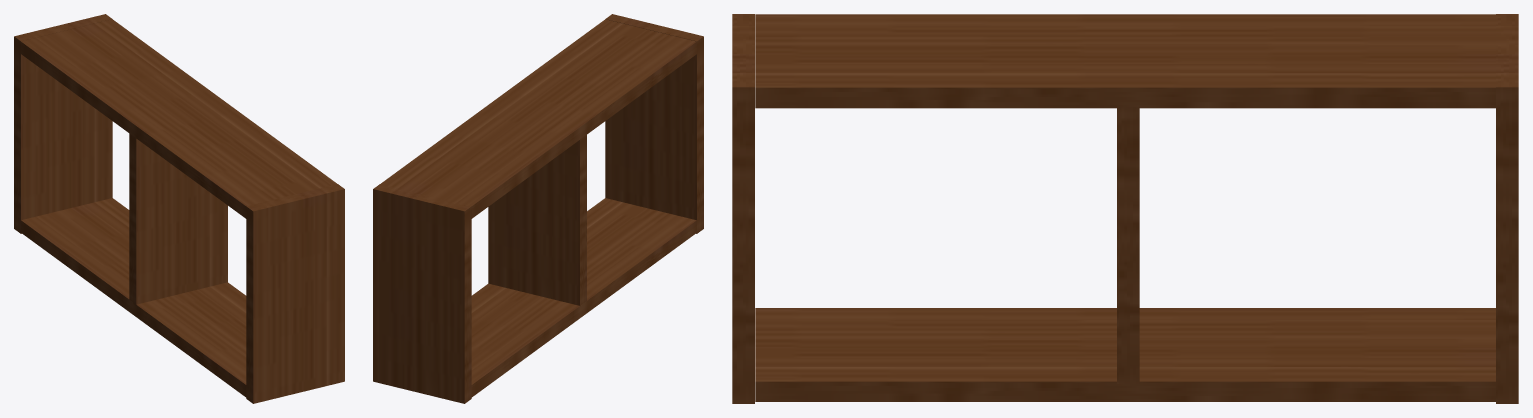
The model's file is policka.fbx.
3 renders of one model, left to right at view 1: azimuth 30°, elevation 25°; view 2: azimuth 150°, elevation 25°; view 3: azimuth 270°, elevation 25°, orthographic. The views are drawn at different scales.
Parts seen in each view (by area): view 1: pCube30; view 2: pCube30; view 3: pCube30.
Part boxes in pixels (left/top/right/bottom): pCube30: left=14, top=14, right=344, bottom=403; pCube30: left=373, top=14, right=703, bottom=403; pCube30: left=732, top=14, right=1518, bottom=403.
Size of the model in its own units: 0.9354 by 1.88 by 4.23.
